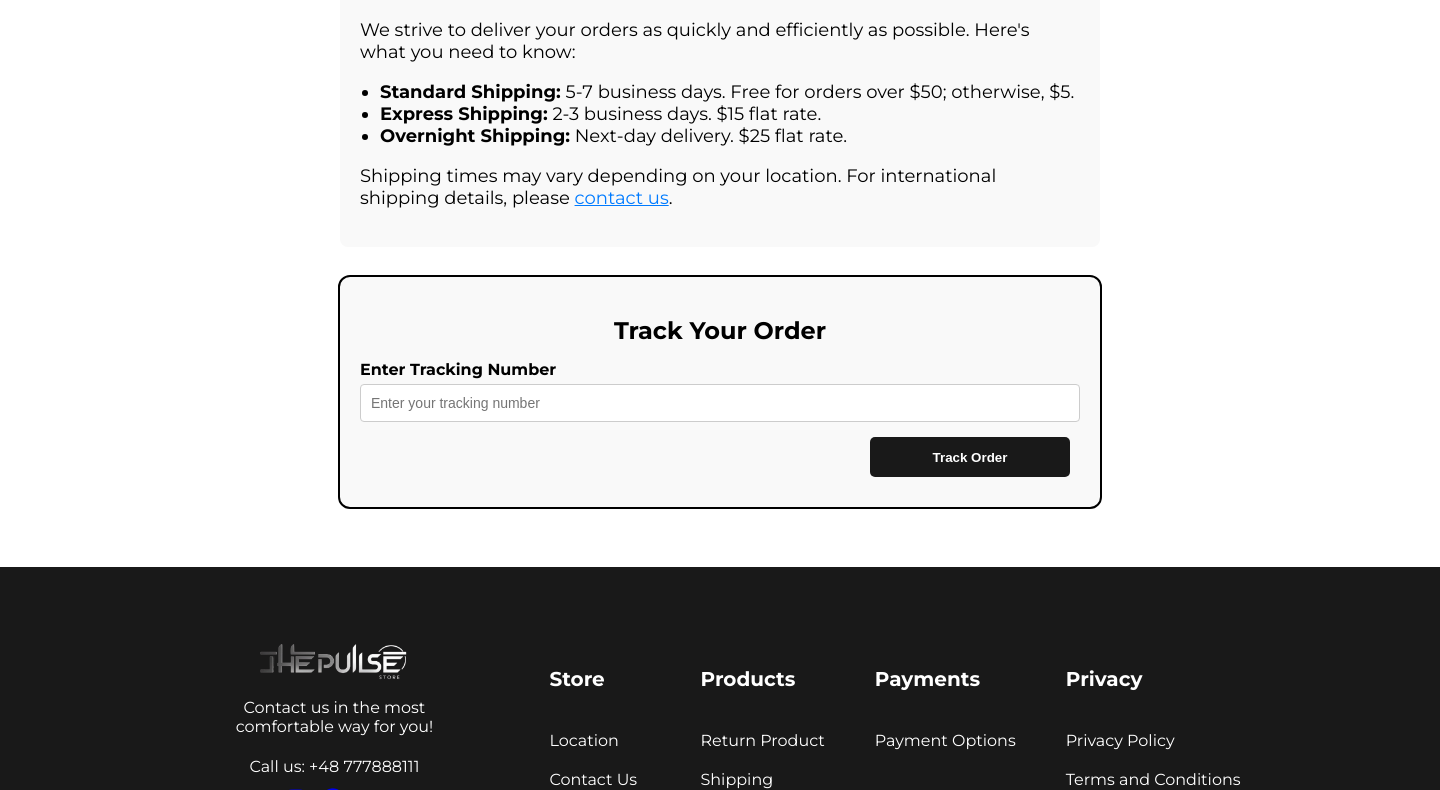
ShippingPage Component › displays an error when tracking number contains invalid characters
(page scrolled)
Step 1. Type "123AB" into the field labelled "Enter Tracking Number" → (720, 403), box [360, 384, 1080, 422]
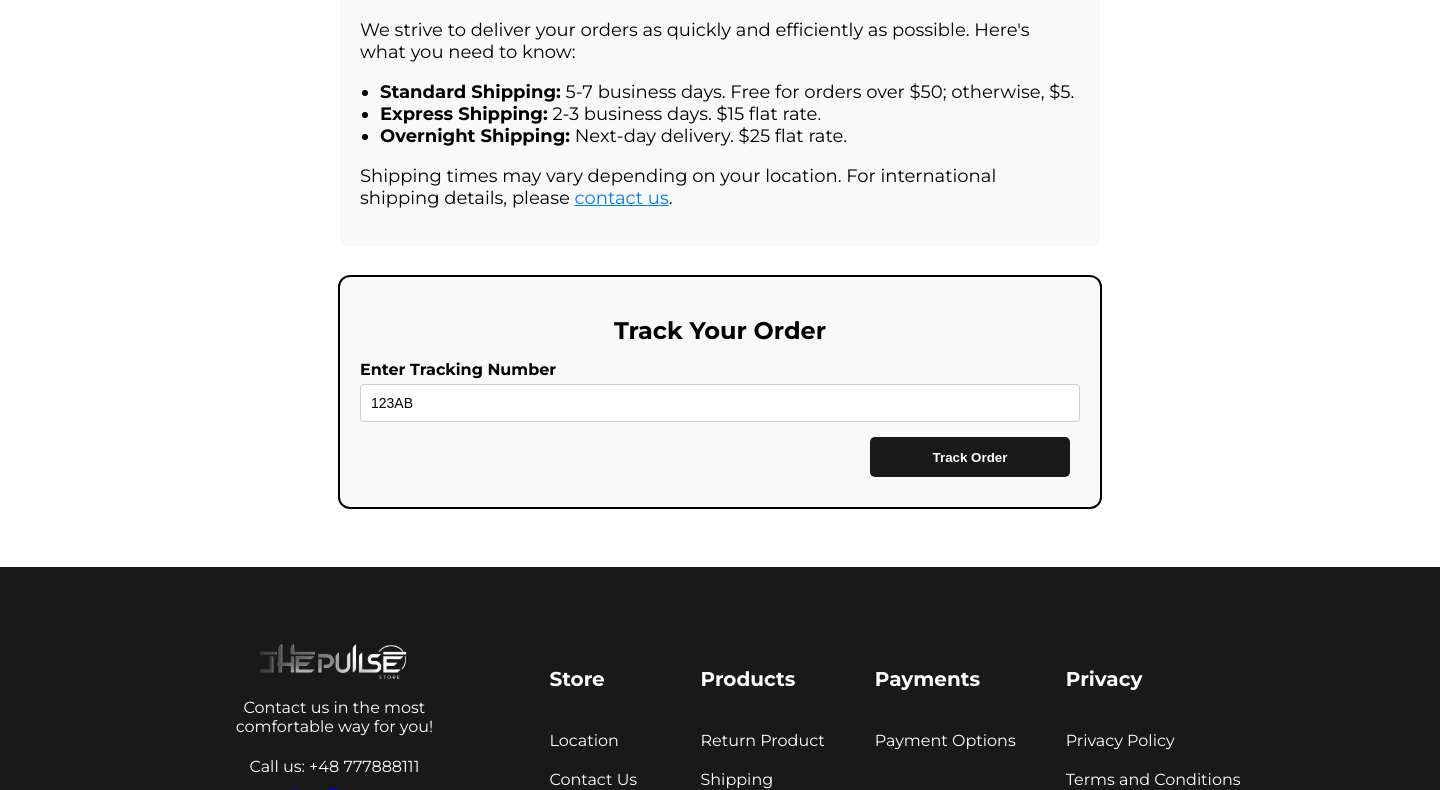
Step 2. Click the button "Track Order" → (970, 457), box [870, 437, 1070, 477]
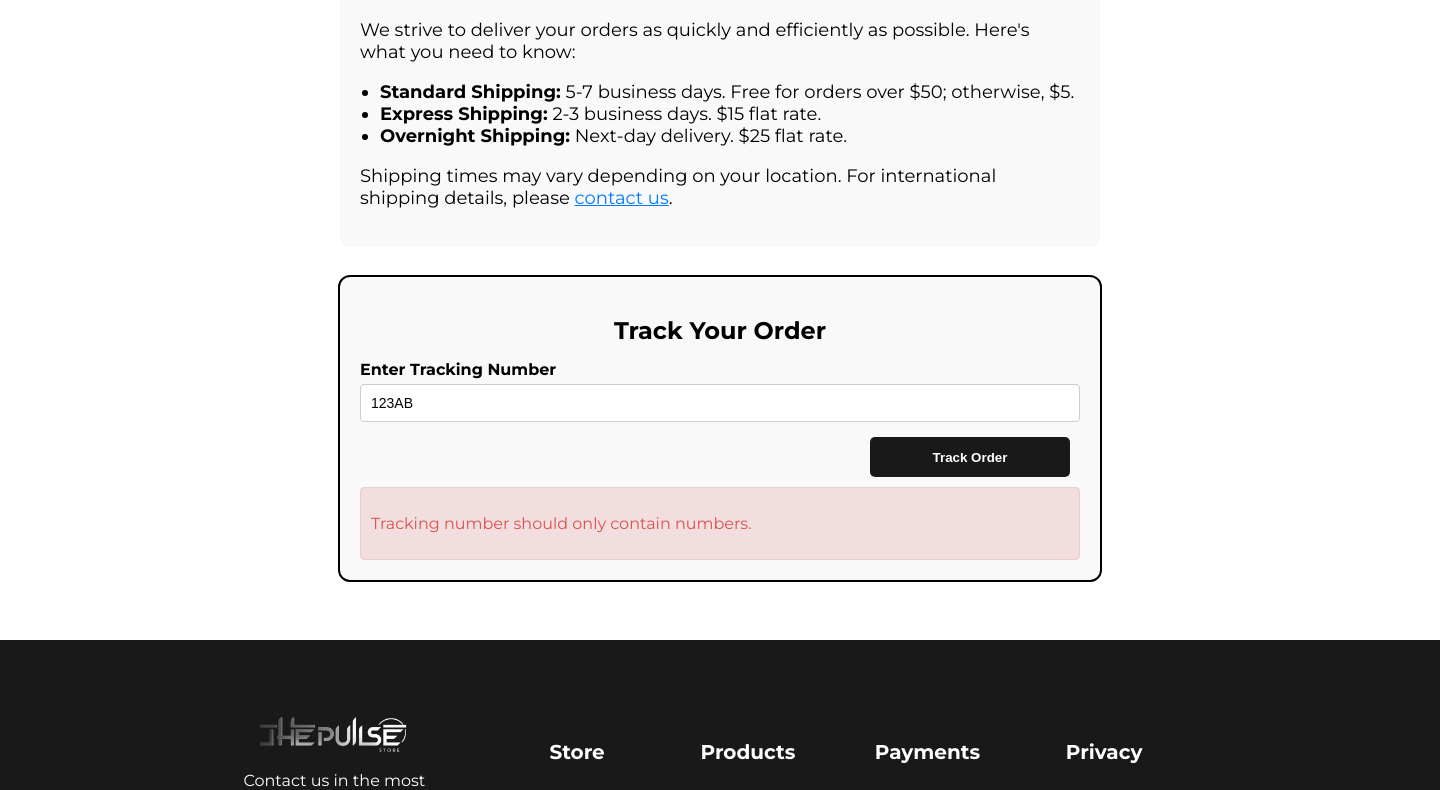
Expected: the text "Tracking number should only contain numbers." is shown, [371, 514, 752, 533]
